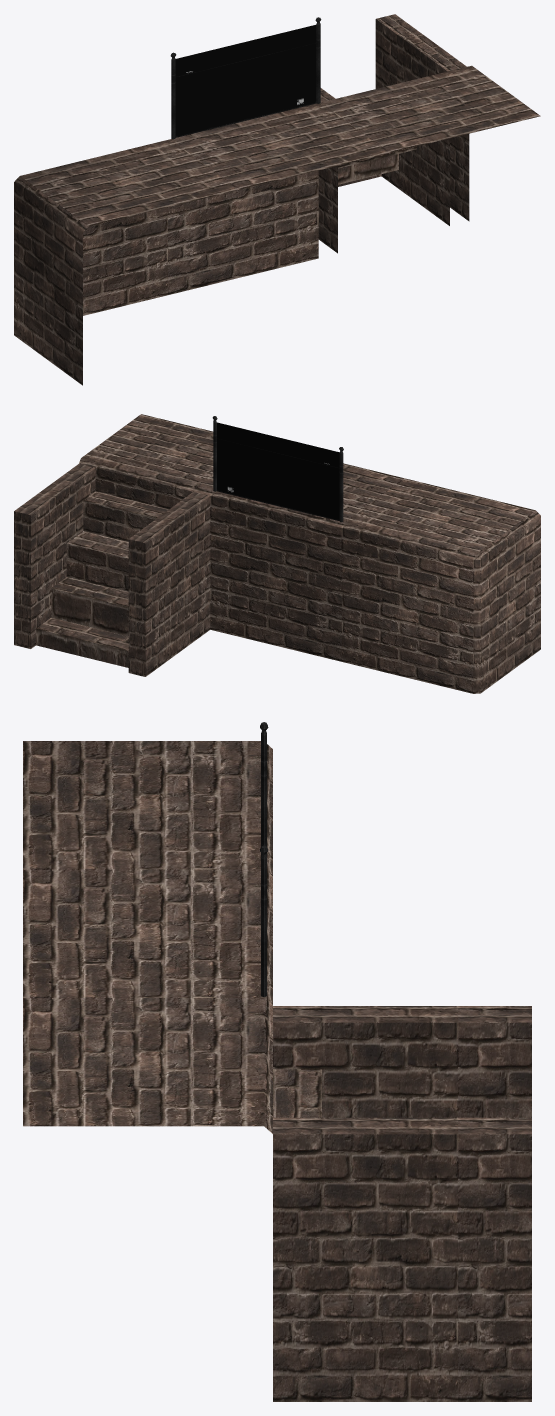
The model's file is down_blocks.fbx.
3 views of the same model, one above another, from view 1: azimuth 30°, elevation 25°; view 2: azimuth 150°, elevation 25°; view 3: azimuth 270°, elevation 25° (orthographic). The views are drawn at different scales.
Visible parts, largest first — view 1: down_block_ugol, down_block, down_block_stairs, fence; view 2: down_block_stairs, down_block_ugol, down_block, fence; view 3: down_block_stairs, down_block, down_block_ugol, fence.
Part boxes in pixels (x1=…): down_block_ugol: x1=14, y1=139, x2=239, y2=385; down_block: x1=168, y1=102, x2=389, y2=294; down_block_stairs: x1=318, y1=14, x2=540, y2=253; fence: x1=170, y1=17, x2=321, y2=139; down_block_stairs: x1=14, y1=414, x2=213, y2=676; down_block_ugol: x1=341, y1=478, x2=540, y2=693; down_block: x1=210, y1=463, x2=403, y2=661; fence: x1=212, y1=416, x2=343, y2=522; down_block_stairs: x1=23, y1=998, x2=531, y2=1401; down_block: x1=23, y1=869, x2=272, y2=1005; down_block_ugol: x1=23, y1=741, x2=272, y2=876; fence: x1=260, y1=722, x2=268, y2=996.
Size of the model in its own units: 608 by 335 by 308.
